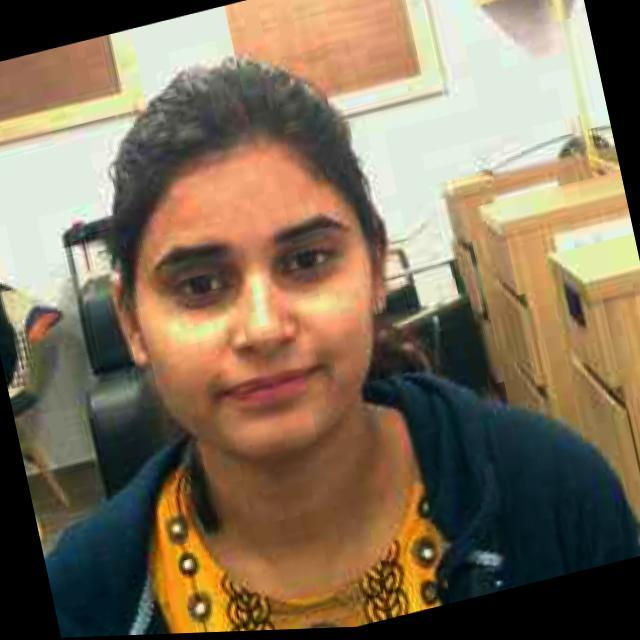Puffy Eyes - v3 Dark Circle: (183, 266, 238, 311), (281, 261, 336, 287)
